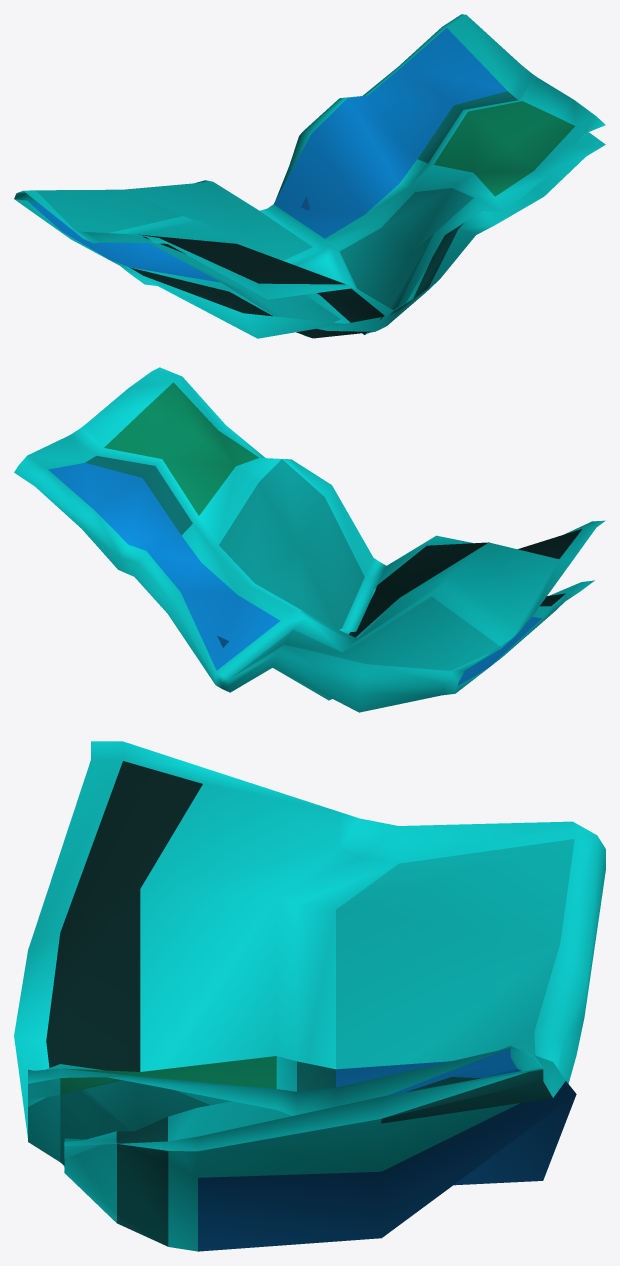
The model's file is OldNewspaper012.glb.
The picture shows the model from 3 angles, top to bottom: view 1: azimuth 30°, elevation 25°; view 2: azimuth 150°, elevation 25°; view 3: azimuth 270°, elevation 25°; orthographic projection. The views are drawn at different scales.
Visible parts, largest first — view 1: OldNewspaper012; view 2: OldNewspaper012; view 3: OldNewspaper012.
Part boxes in pixels (box(x1,y1,x2,y2)): OldNewspaper012: box(14, 14, 605, 338); OldNewspaper012: box(14, 367, 605, 712); OldNewspaper012: box(14, 741, 605, 1251).
Bounding box in the file's own units: 0.0888 × 0.038 × 0.056.
